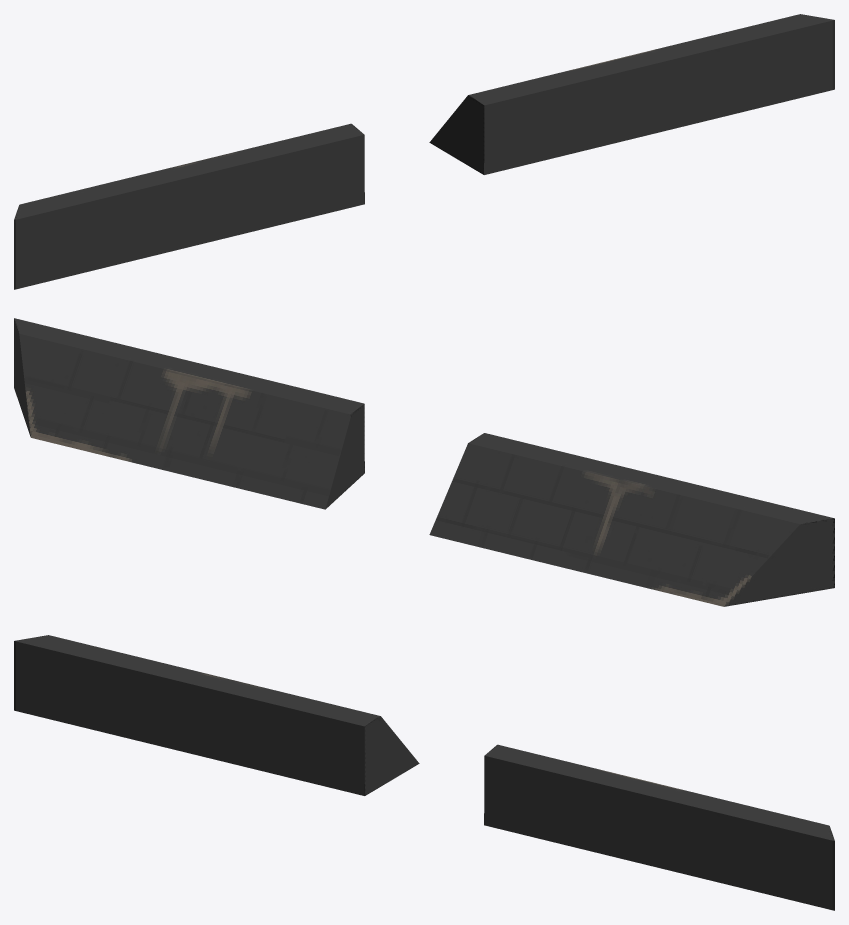
The model's file is Doorway-Vertical2.fbx.
3 views of the same model, one above another, from view 1: azimuth 30°, elevation 25°; view 2: azimuth 150°, elevation 25°; view 3: azimuth 330°, elevation 25° (orthographic).
Parts seen in each view (by area): view 1: Wall_Door_North; view 2: Wall_Door_North; view 3: Wall_Door_North.
Boxes of the visible parts, x1,y1,x2,y2 form: Wall_Door_North: (14,14,834,289); Wall_Door_North: (14,318,834,606); Wall_Door_North: (14,635,834,910).
Bounding box in the file's own units: 3699 × 300 × 368.
Materials: 1 (1 with a texture image).
